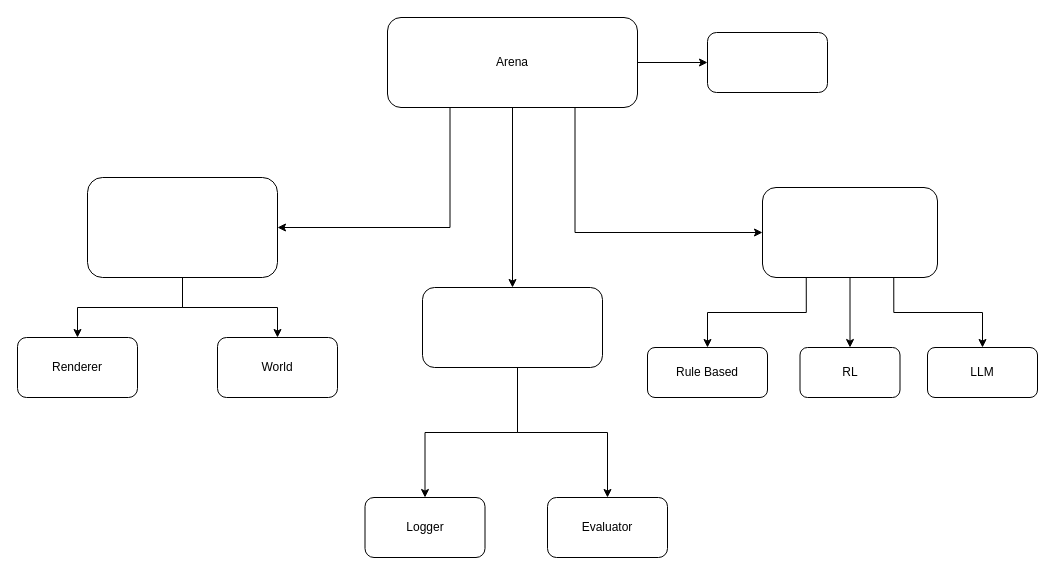
This 1055x575 diagram has some shape labels left out. Here are the shapes that lost their labels. From the top down, the box of each, then its label:
(706, 32, 828, 92): Phases
(86, 176, 278, 278): Environment
(762, 186, 938, 278): Agents
(422, 286, 602, 368): Analysis
